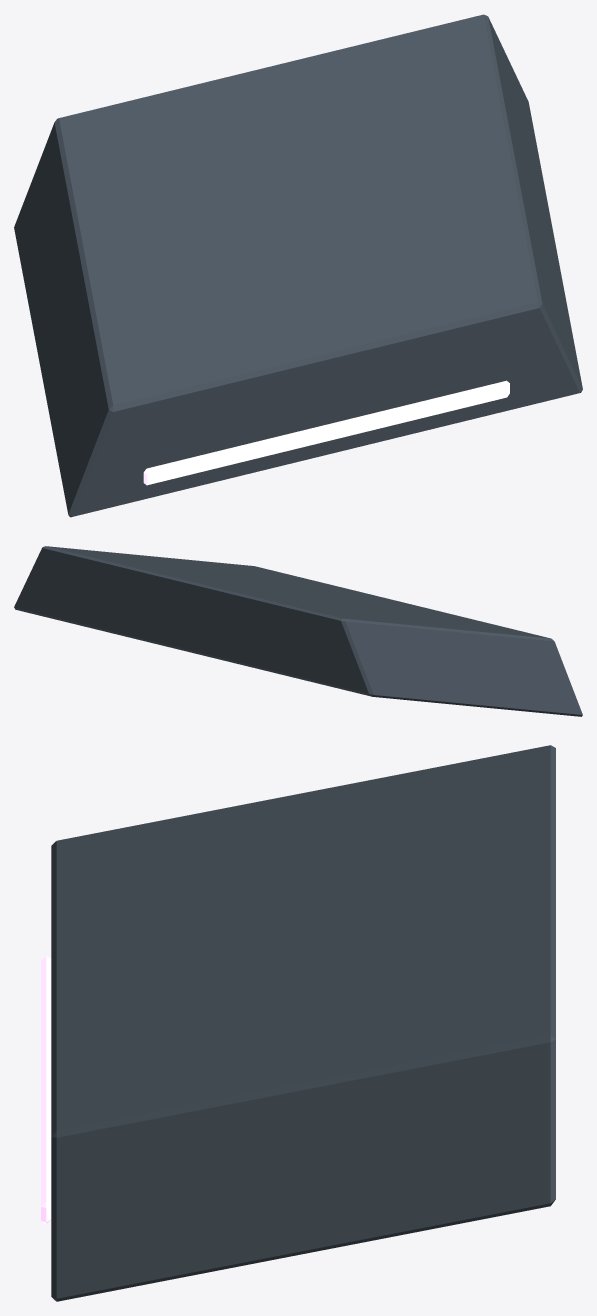
Rendered from Plate3D_Base.gltf.
The picture shows the model from 3 angles, top to bottom: view 1: azimuth 30°, elevation 25°; view 2: azimuth 150°, elevation 25°; view 3: azimuth 270°, elevation 25°; orthographic projection. The views are drawn at different scales.
Parts seen in each view (by area): view 1: Plate3D_Base_baked; view 2: Plate3D_Base_baked; view 3: Plate3D_Base_baked.
Boxes of the visible parts, x1=… form: Plate3D_Base_baked: x1=14, y1=14, x2=582, y2=517; Plate3D_Base_baked: x1=14, y1=546, x2=582, y2=716; Plate3D_Base_baked: x1=41, y1=745, x2=555, y2=1301.
Bounding box in the file's own units: 1.18 × 0.4072 × 0.592.
